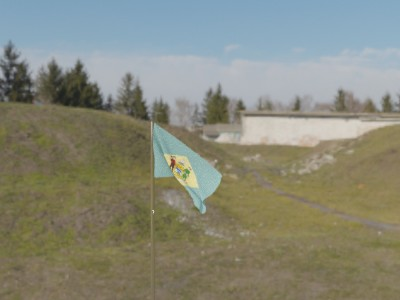Delaware flag: (153, 125, 224, 214)
